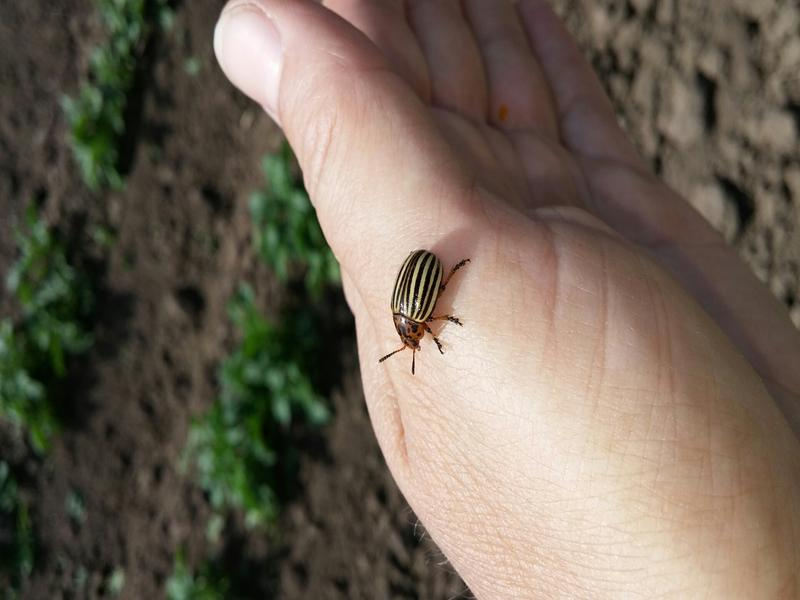hrosc: (385, 245, 463, 379)
